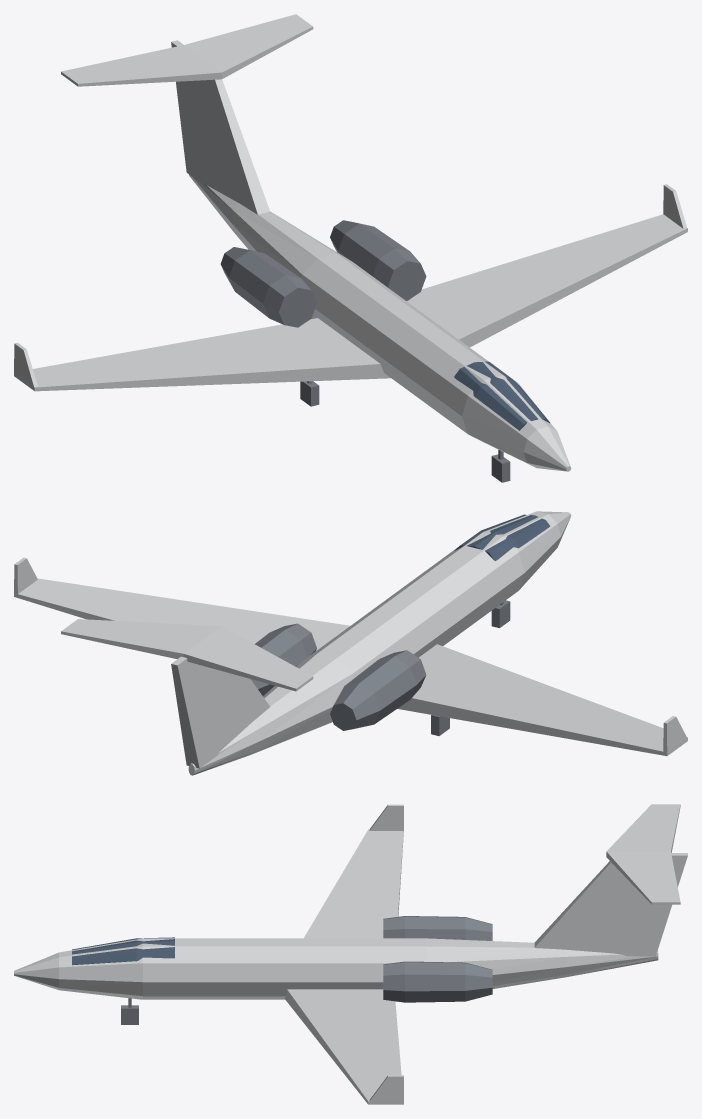
Rendered from bizjet.glb.
The picture shows the model from 3 angles, top to bottom: view 1: azimuth 30°, elevation 25°; view 2: azimuth 150°, elevation 25°; view 3: azimuth 270°, elevation 25°; orthographic projection. The views are drawn at different scales.
Parts seen in each view (by area): view 1: bizjet; view 2: bizjet; view 3: bizjet.
Part boxes in pixels (x1,y1,x2,y2): bizjet: [14, 14, 687, 482]; bizjet: [14, 511, 687, 775]; bizjet: [14, 804, 687, 1104].
Bounding box in the file's own units: 1 × 0.2944 × 1.05.
